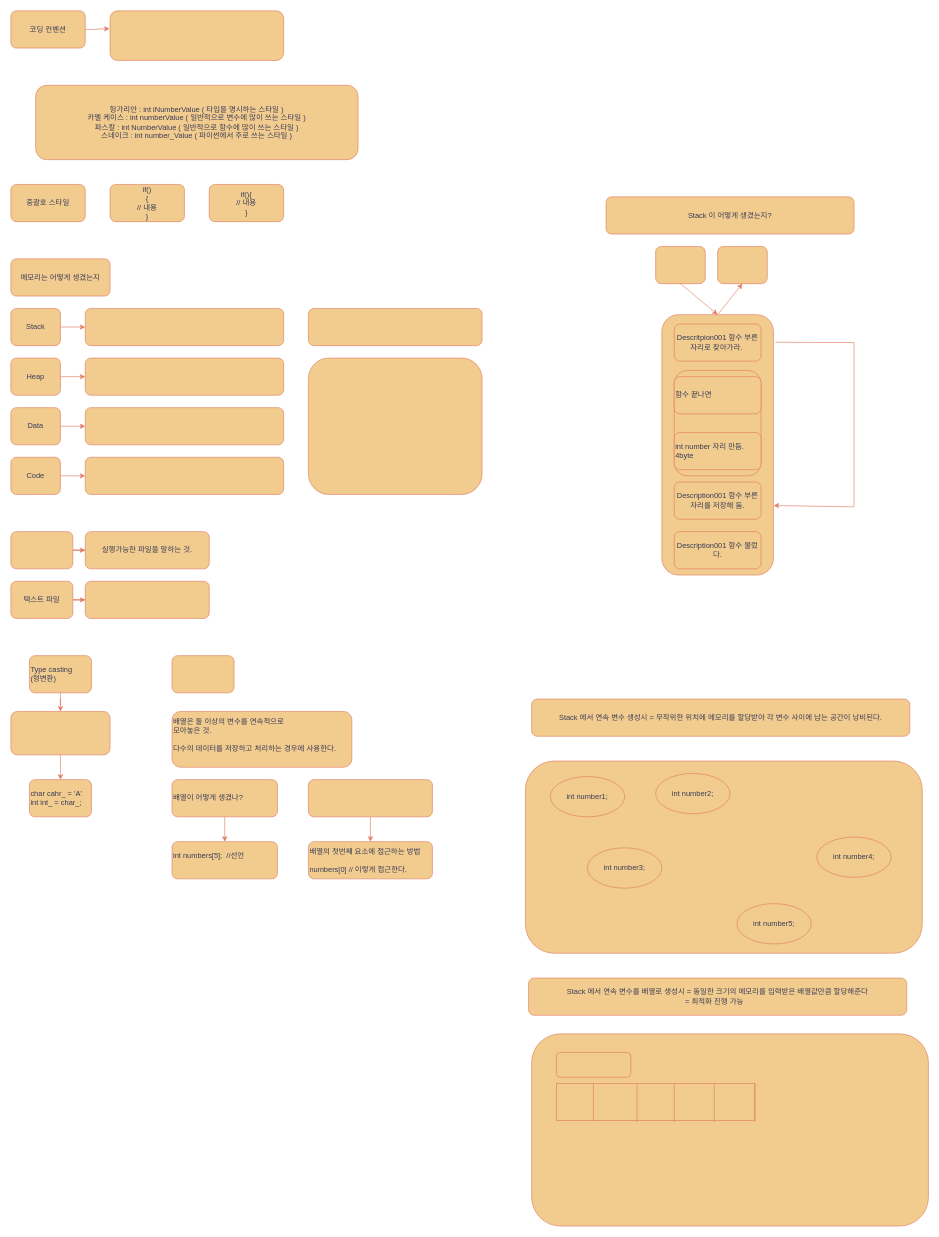
The diagram is 939 pixels wide and 1237 high, and some of its shapes have lost their labels. The shapes that lost their labels are listed below. From the top down, each one's box as (x1, y1, x2, y2) in pixels, then its label:
(109, 10, 284, 60): 프로그래밍 하면서 지켜야 할 규칙들이 있다. 컴파일러가 체크해주는 규칙이 아니다. 사람과 사람 사이의 규칙을 정한 것.
(655, 246, 705, 284): 입구
(717, 246, 767, 284): 출구
(85, 308, 284, 346): 메모리 상에서 가까운 곳에 있다. 상대적으로 조그맣다. 그래서 빠르다.
(308, 308, 482, 346): Stack -> 뭔가를 저장했음 . a
(85, 357, 284, 395): 메모리 상에서 먼 곳에 있다. 상대적으로 크다. 그래서 느리다.
(85, 407, 284, 445): 전역 변수가 저장되는 곳.
(308, 357, 482, 494): Heap -> 뭔가를 저장했음. b
(674, 370, 761, 476): 함수 열었음.
(85, 457, 284, 494): 소스 코드가 메모리에 올라가서 저장되는 곳.
(10, 531, 73, 569): 바이너리 파일
(85, 581, 209, 618): 메모장으로 열리는 다른 모든 파일.
(171, 655, 234, 693): 배열
(10, 711, 110, 755): 자료형을 강제로 변환하는 기능 값의 손실이 일어날 수 있다.
(308, 779, 432, 817): 배열은 index(첨자)로 접근 가능하다.
(556, 1052, 631, 1077): int numbers[5];
